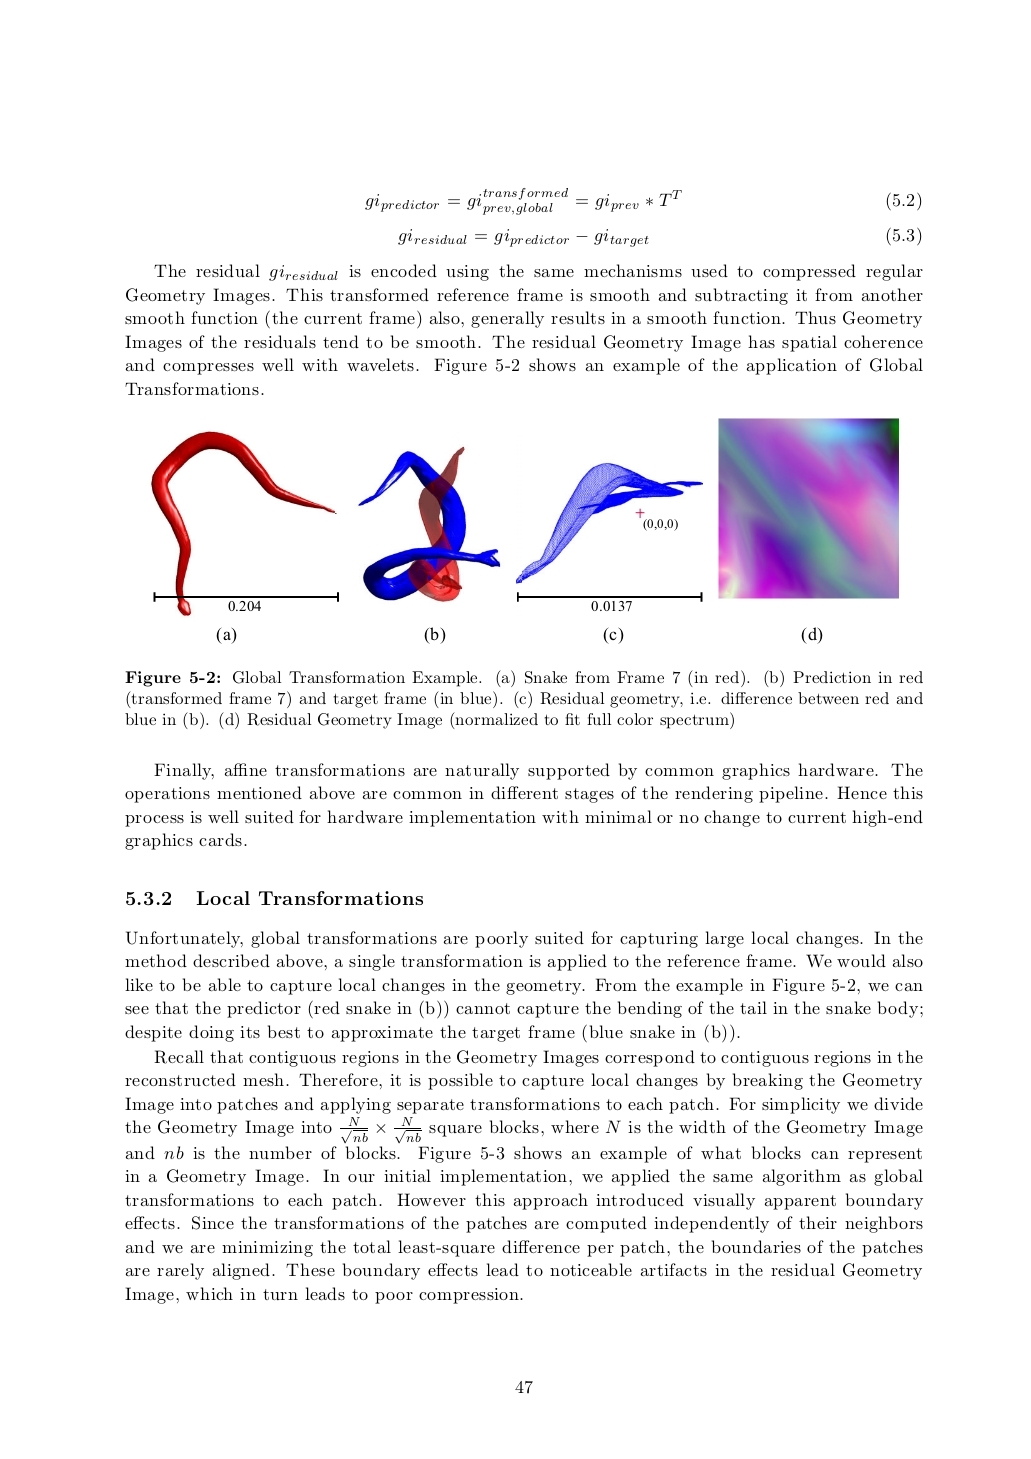figure: (151, 431, 338, 615), (717, 418, 899, 598), (515, 463, 702, 611), (358, 446, 500, 601)
formula: (365, 186, 921, 215), (398, 226, 921, 247)
